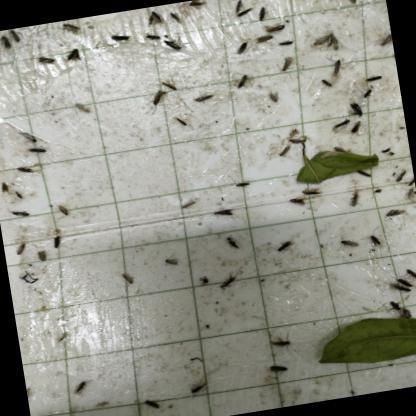prays_oleae: (265, 320, 293, 355), (4, 200, 37, 225), (190, 376, 216, 406), (341, 228, 364, 260), (272, 232, 298, 260), (12, 119, 40, 144), (110, 27, 134, 55), (118, 266, 142, 294), (329, 110, 355, 135), (140, 386, 161, 416), (148, 81, 169, 111), (316, 22, 340, 48), (264, 356, 292, 378), (233, 68, 254, 96), (160, 70, 178, 102), (212, 199, 236, 222), (191, 85, 215, 108), (55, 197, 74, 226), (346, 93, 368, 118), (218, 269, 239, 294), (367, 223, 385, 252), (160, 250, 180, 276), (255, 29, 279, 50), (327, 52, 345, 80), (394, 270, 412, 298), (12, 160, 37, 180), (374, 26, 393, 52), (70, 373, 90, 397), (56, 20, 82, 38), (232, 173, 254, 194), (22, 140, 50, 156), (224, 226, 240, 254), (66, 46, 88, 66), (140, 25, 159, 48), (263, 17, 286, 36), (384, 206, 408, 224), (392, 162, 408, 188), (288, 192, 308, 212), (346, 188, 364, 210), (50, 229, 64, 257), (256, 1, 271, 27), (302, 182, 320, 203), (163, 38, 183, 56), (364, 68, 382, 88), (320, 72, 335, 96), (32, 53, 54, 68), (9, 242, 31, 257), (274, 140, 290, 160), (35, 247, 50, 268), (404, 257, 416, 283), (288, 130, 304, 148), (8, 29, 23, 48), (359, 86, 376, 102), (188, 0, 206, 15), (0, 34, 14, 53), (231, 40, 249, 54), (389, 296, 404, 312), (235, 3, 253, 16), (350, 120, 364, 136), (232, 0, 244, 18), (169, 10, 180, 24), (343, 0, 360, 7)
